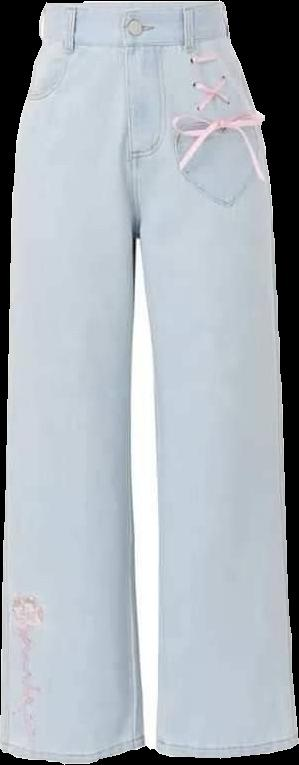Hemline: (0, 739, 148, 764), (156, 738, 298, 760)
Pantleg: (121, 1, 298, 757), (0, 2, 144, 761)
Waistline: (40, 28, 232, 51), (45, 0, 227, 13)
